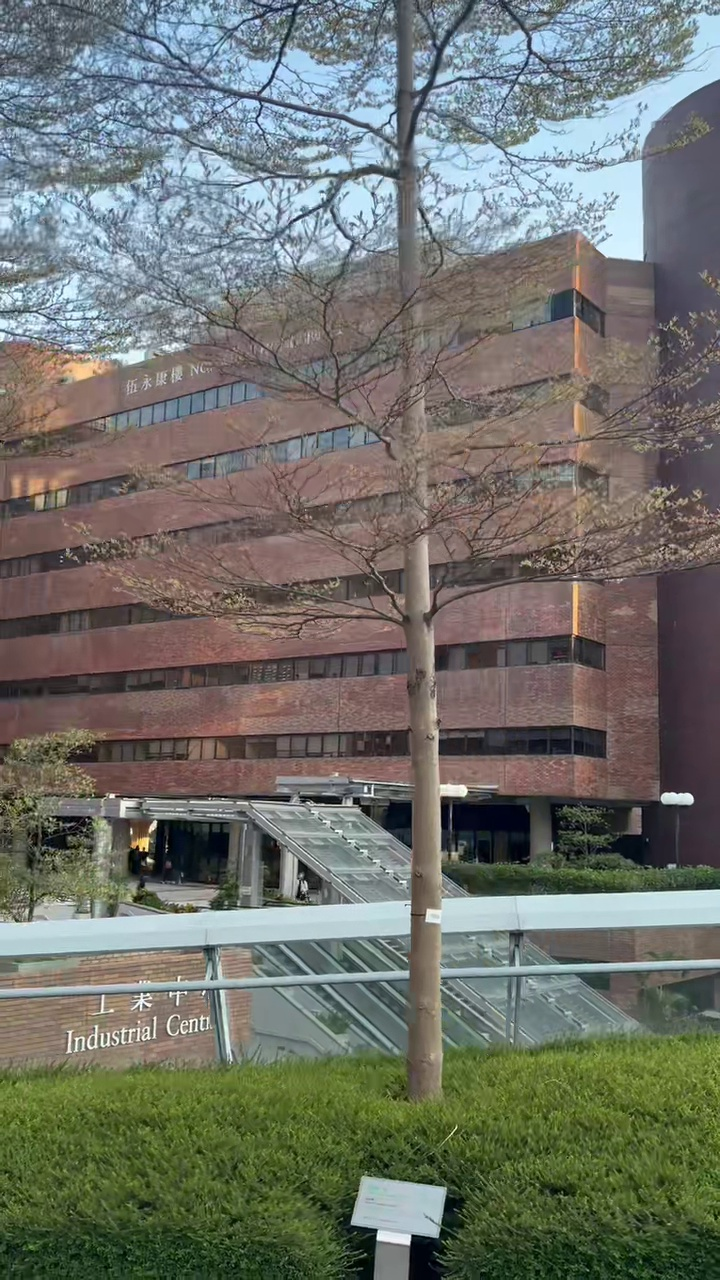Terminalia mantaly: (13, 0, 719, 1099)
